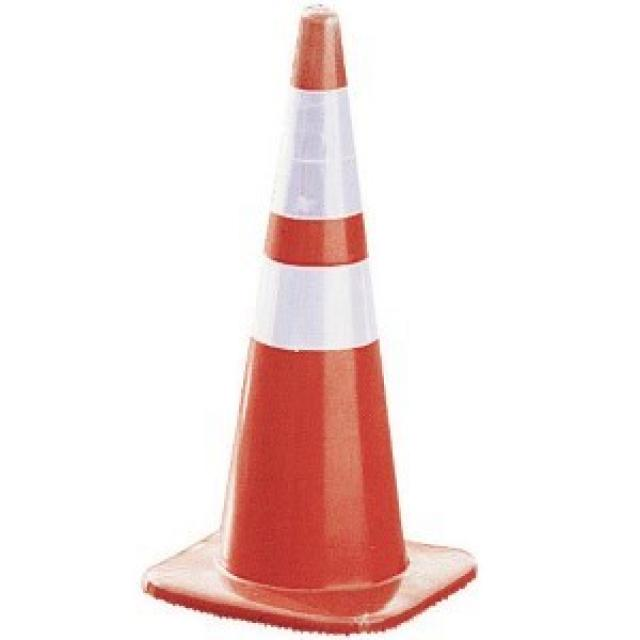cone: (140, 2, 473, 632)
